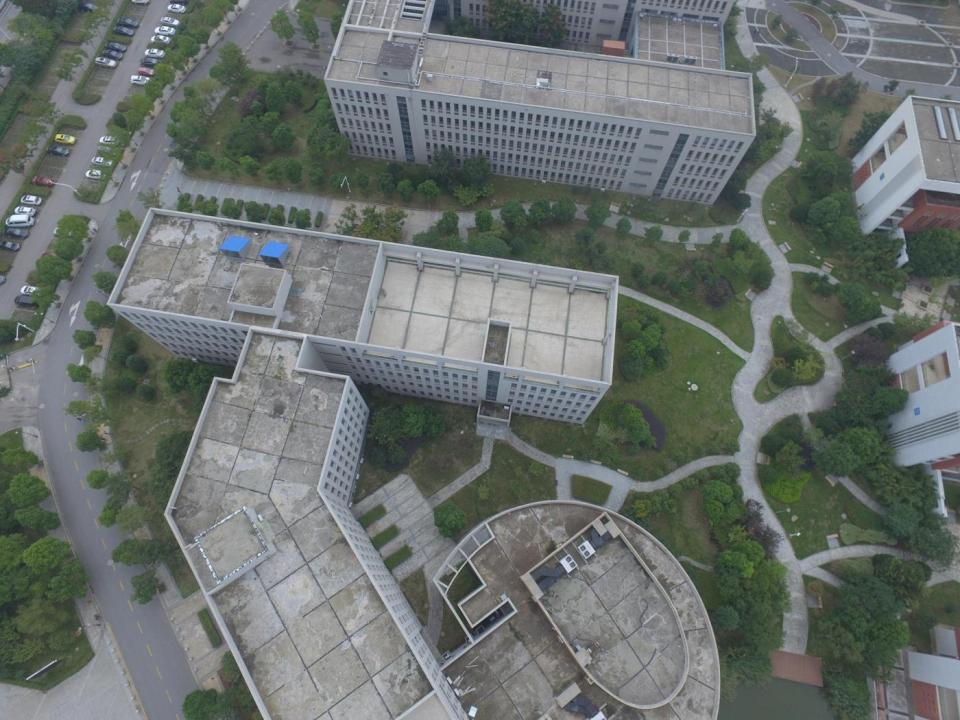car: (14, 295, 41, 308), (2, 228, 30, 238), (54, 133, 76, 145), (129, 74, 151, 86), (20, 285, 43, 296), (31, 176, 54, 187), (20, 195, 42, 206), (95, 57, 117, 68), (46, 146, 70, 156), (0, 240, 21, 251), (92, 156, 113, 167), (97, 145, 118, 156), (102, 49, 123, 60), (53, 227, 75, 237), (14, 206, 36, 216), (85, 170, 107, 180), (154, 26, 176, 36), (114, 26, 134, 37), (144, 48, 165, 58), (161, 16, 180, 27), (140, 57, 160, 67), (106, 42, 126, 52), (40, 252, 62, 261), (98, 136, 120, 145), (117, 18, 139, 27), (167, 4, 186, 14), (151, 35, 170, 45), (77, 3, 98, 12), (138, 67, 155, 77), (169, 0, 188, 5), (131, 0, 149, 5)
van: (5, 214, 35, 228)
